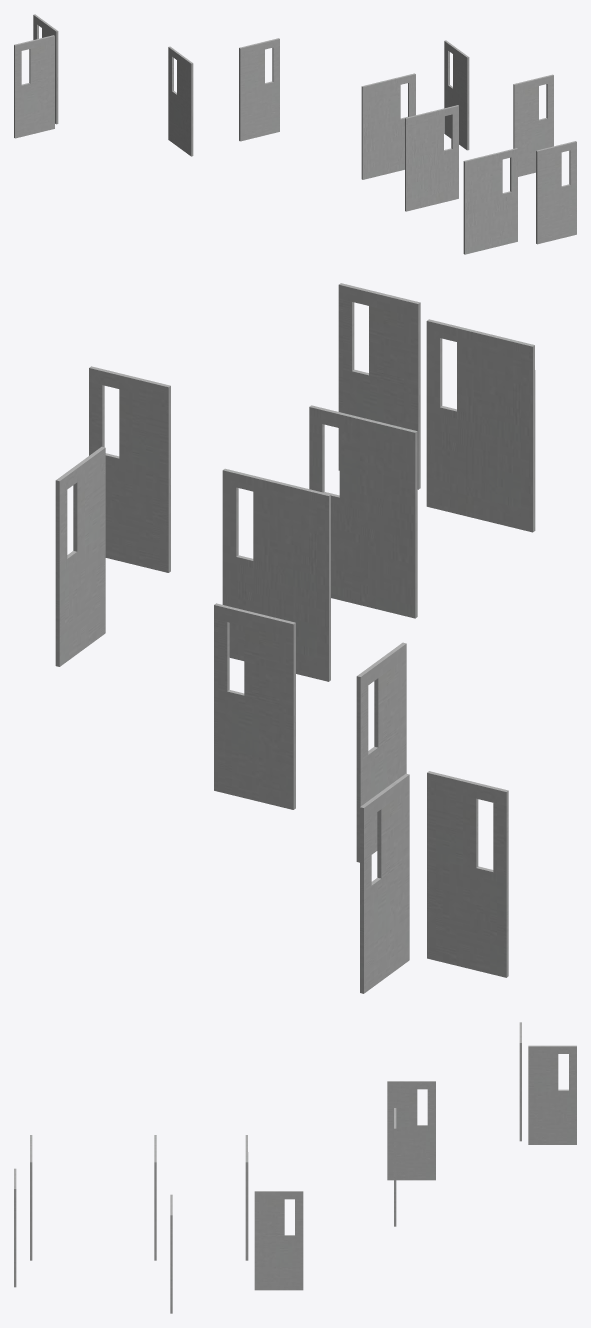
Rendered from doors.glb.
3 views of the same model, one above another, from view 1: azimuth 30°, elevation 25°; view 2: azimuth 150°, elevation 25°; view 3: azimuth 270°, elevation 25° (orthographic). The views are drawn at different scales.
Parts seen in each view (by area): view 1: doors; view 2: doors; view 3: doors.
Part boxes in pixels (left/top/right/bottom): doors: left=14, top=14, right=576, bottom=254; doors: left=55, top=283, right=535, bottom=993; doors: left=14, top=1022, right=576, bottom=1313.
Size of the model in its own units: 28.18 by 6.69 by 34.75.
1 material, 1 textured.
